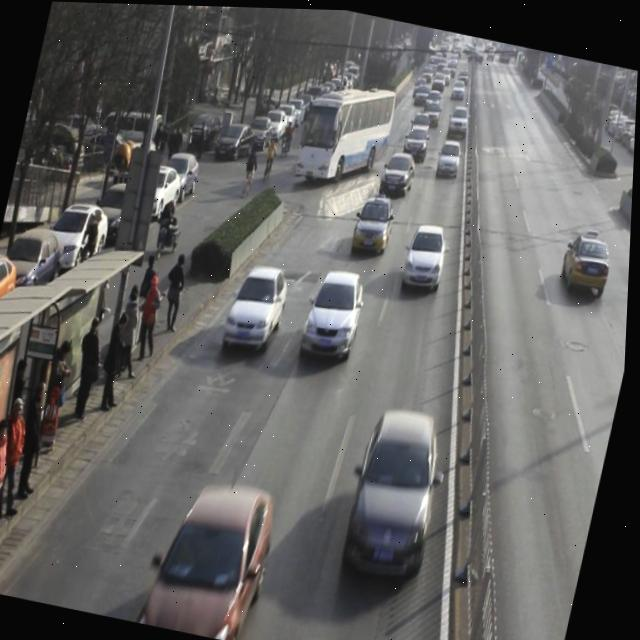car: (140, 469, 287, 640), (343, 403, 458, 591), (299, 266, 372, 367), (224, 263, 294, 360), (557, 228, 617, 299), (401, 222, 454, 294), (351, 193, 400, 259), (377, 149, 418, 201), (434, 138, 464, 182), (400, 125, 431, 165)
van: (291, 74, 398, 195)
